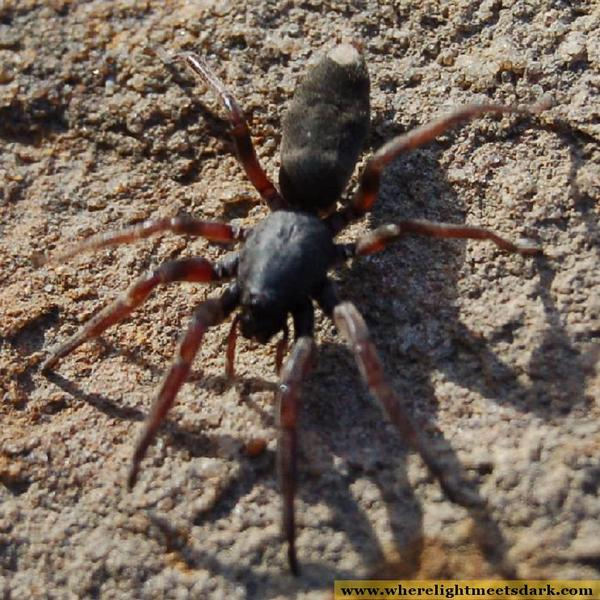White-Tailed Spider: (88, 43, 530, 532)
